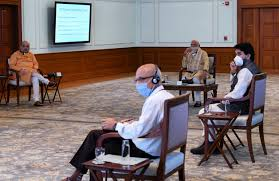Good: (68, 44, 255, 181), (7, 40, 172, 178), (181, 39, 276, 155)
